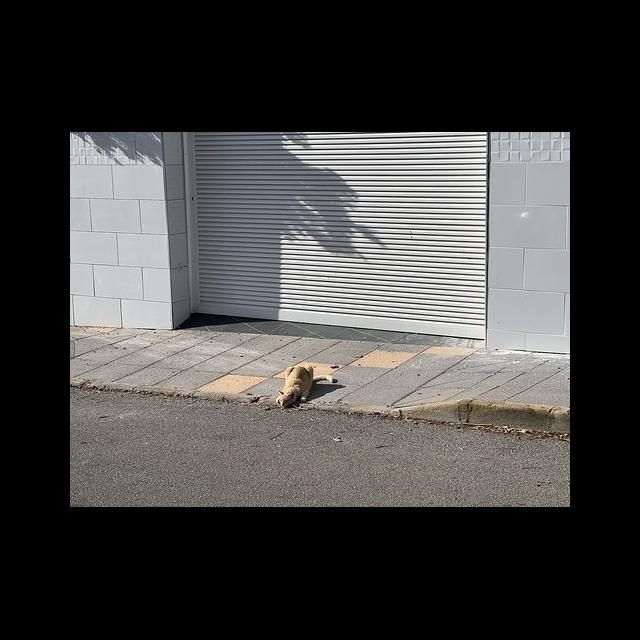animals: (276, 361, 314, 409)
